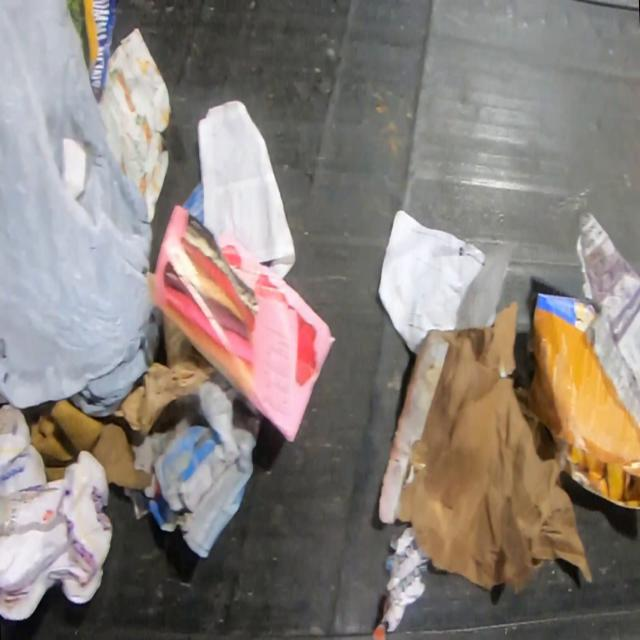cardboard: (526, 291, 640, 511), (20, 400, 152, 492)
soft_plastic: (0, 0, 163, 418)
